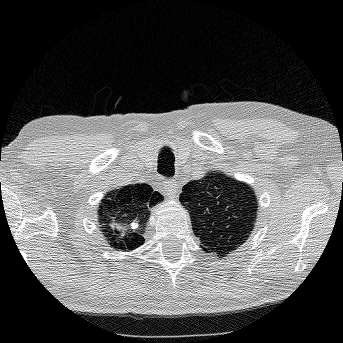nodule: (131, 222, 137, 228)
